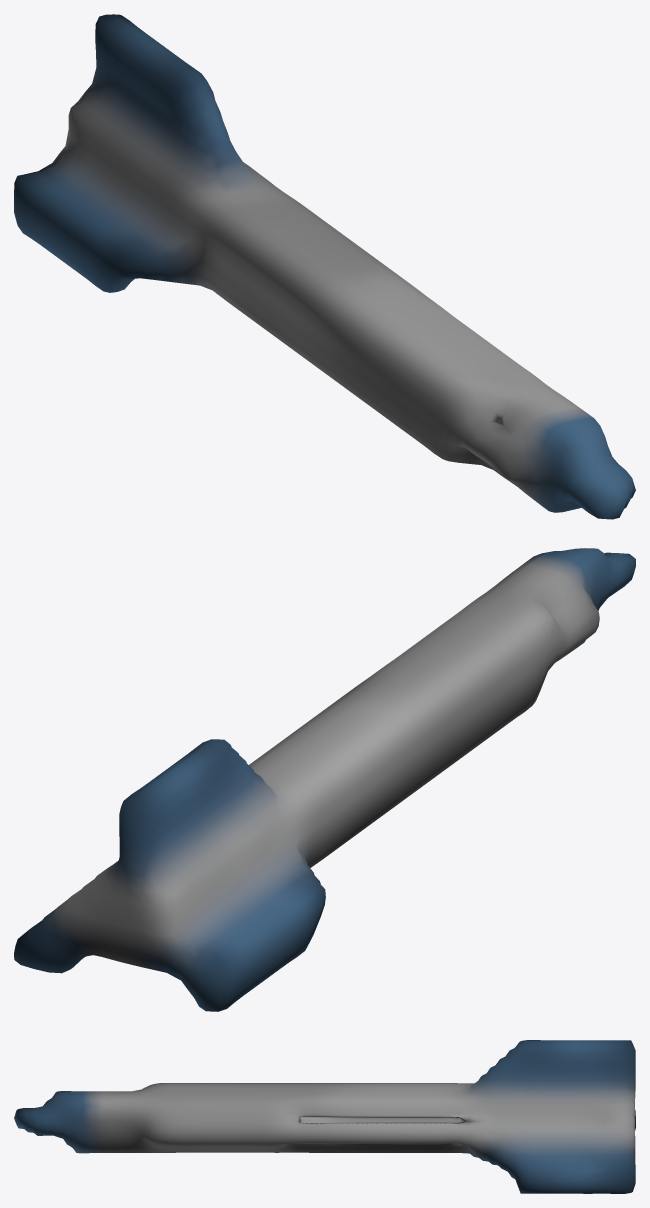
Rendered from boomer_cruise_missile.glb.
The picture shows the model from 3 angles, top to bottom: view 1: azimuth 30°, elevation 25°; view 2: azimuth 150°, elevation 25°; view 3: azimuth 270°, elevation 25°; orthographic projection. The views are drawn at different scales.
Parts seen in each view (by area): view 1: boomer_cruise_missile; view 2: boomer_cruise_missile; view 3: boomer_cruise_missile.
Boxes of the visible parts, bbox=[...] form: boomer_cruise_missile: bbox=[14, 14, 635, 519]; boomer_cruise_missile: bbox=[14, 548, 635, 1011]; boomer_cruise_missile: bbox=[14, 1040, 635, 1193].
Size of the model in its own units: 0.6516 by 0.5667 by 2.64.
